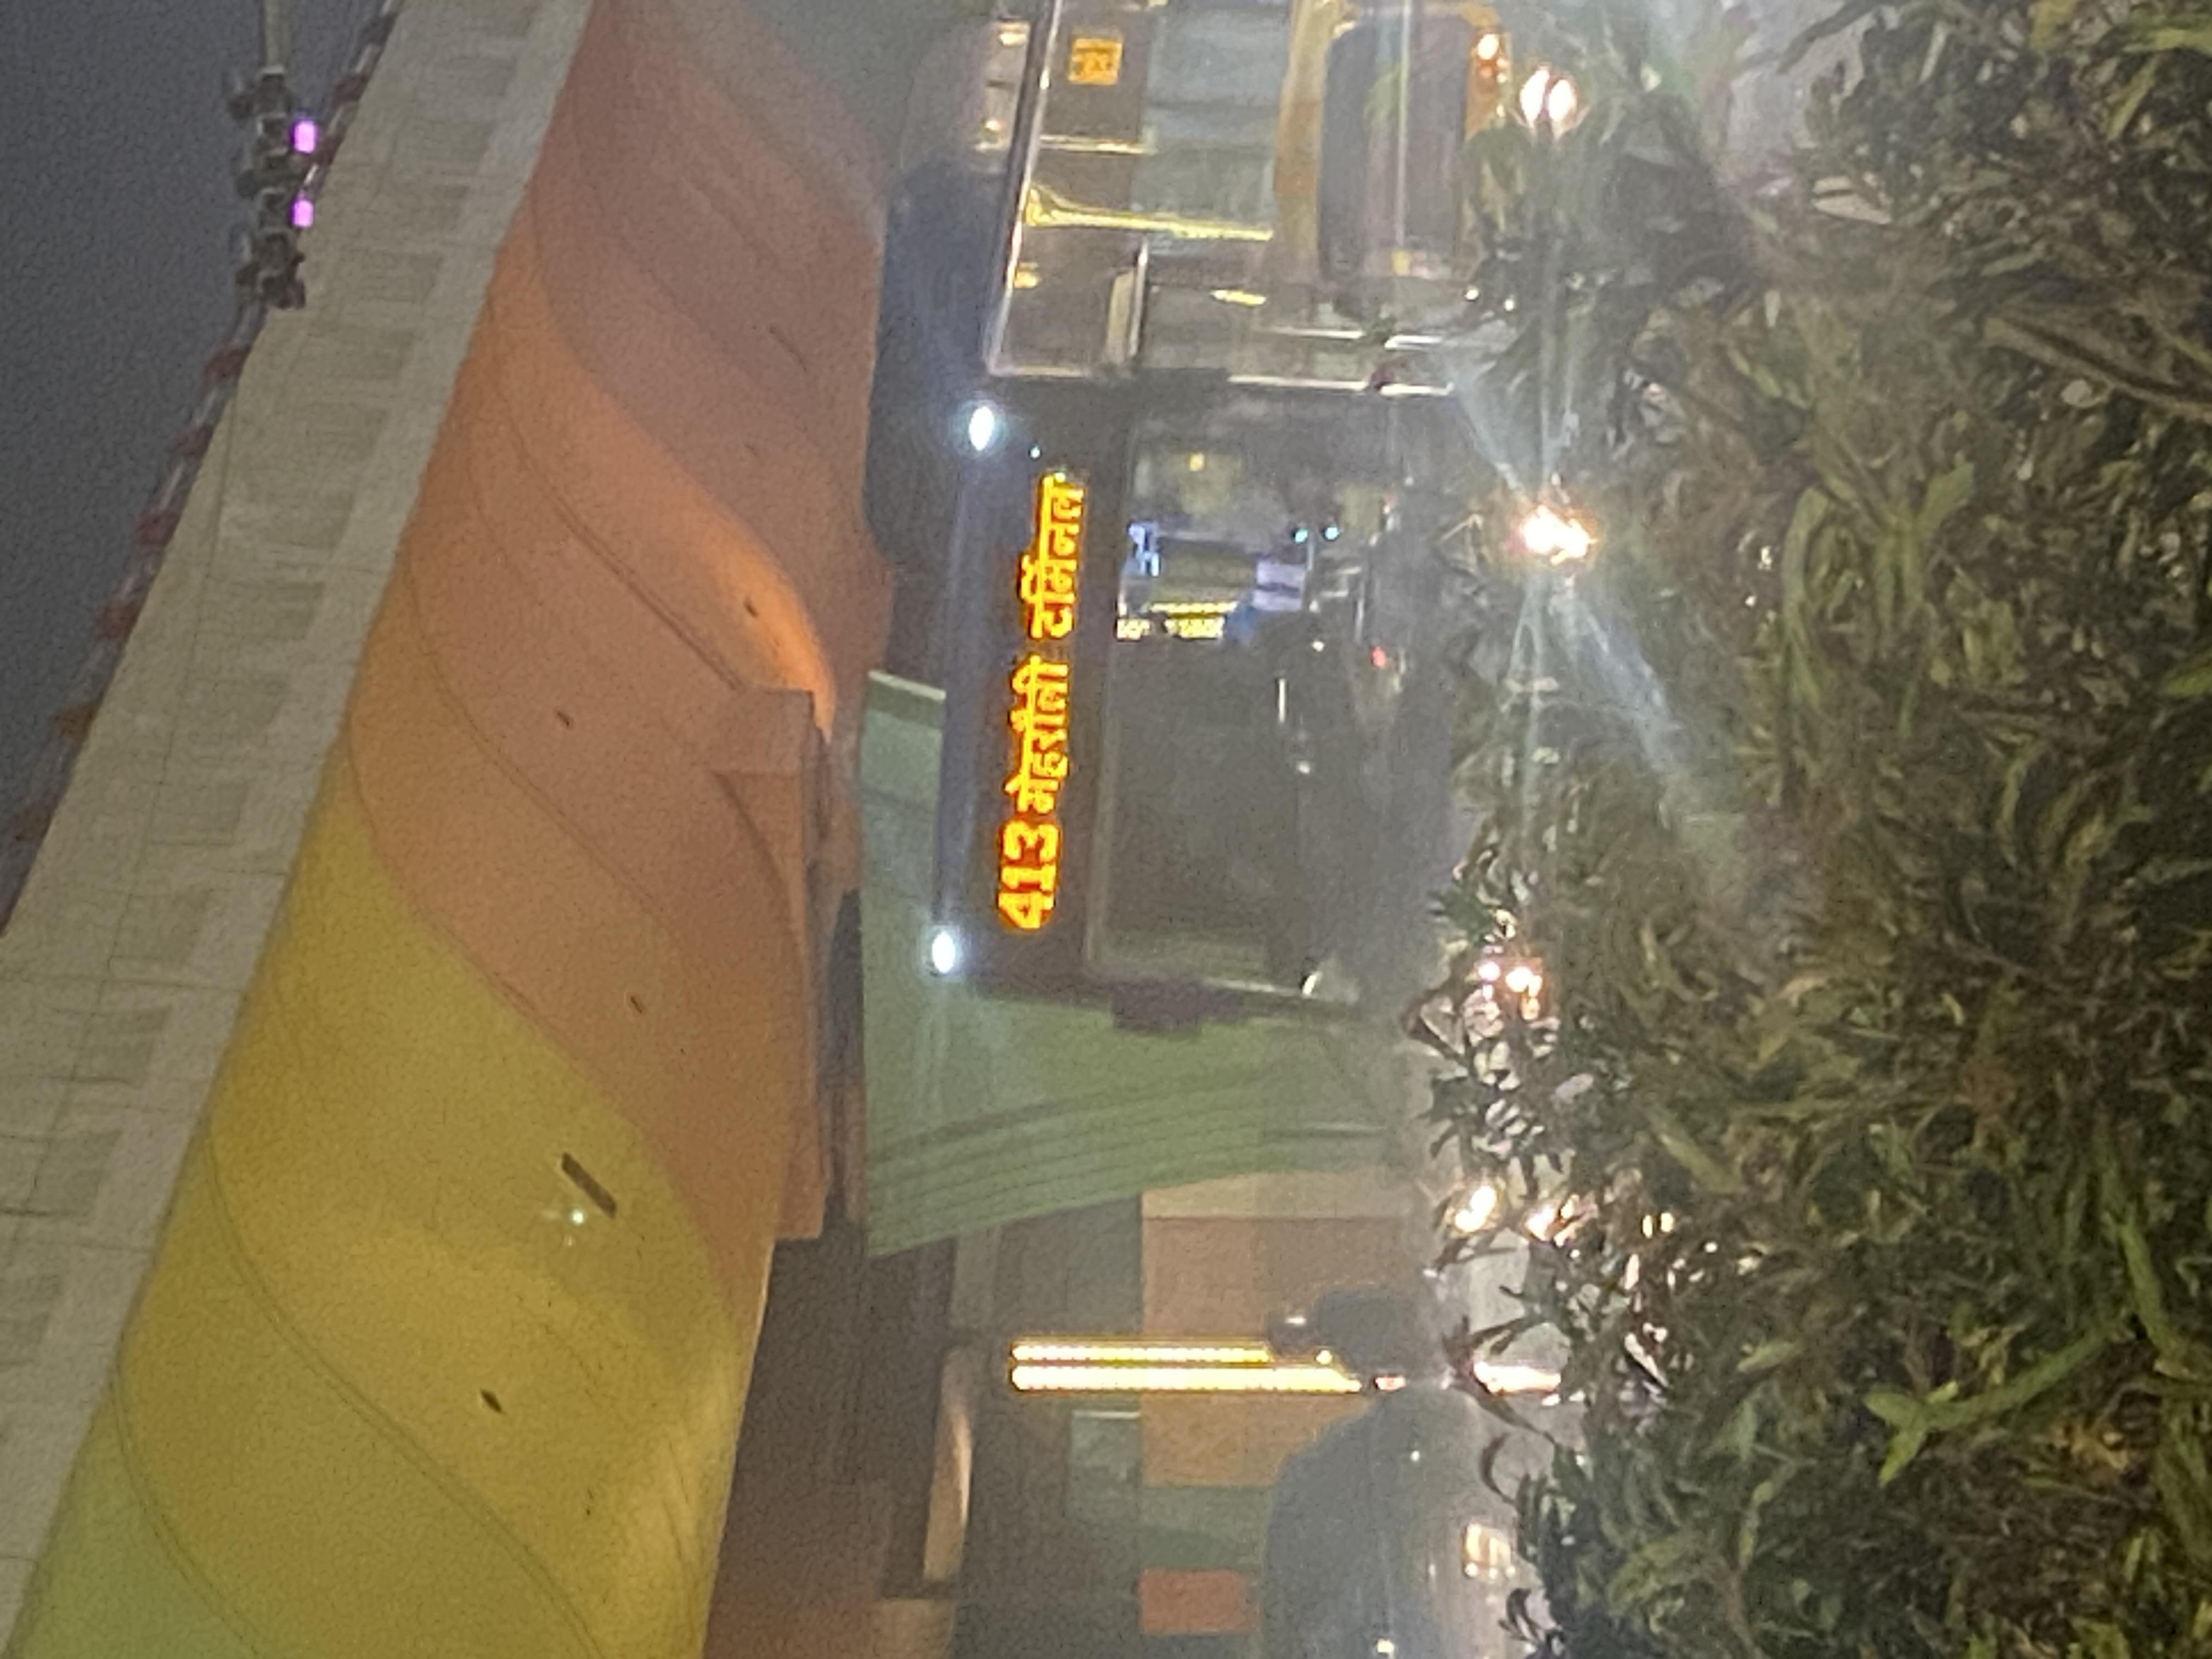Bus: (888, 319, 1585, 1026)
Display Board: (954, 396, 1136, 976)
